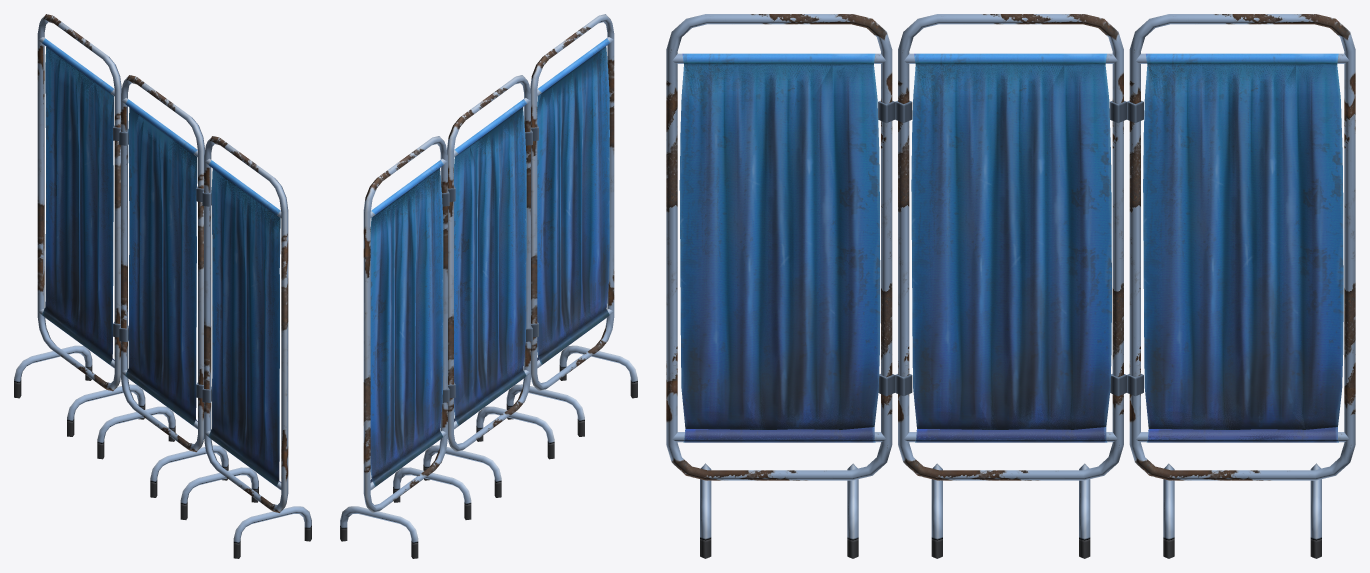
The model's file is hospitalScreen_3x.FBX.
3 views of the same model, side by side, from view 1: azimuth 30°, elevation 25°; view 2: azimuth 150°, elevation 25°; view 3: azimuth 270°, elevation 25° (orthographic). The views are drawn at different scales.
Parts seen in each view (by area): view 1: hospitalScreen03, hospitalScreen01, hospitalScreen02; view 2: hospitalScreen01, hospitalScreen03, hospitalScreen02; view 3: hospitalScreen02, hospitalScreen01, hospitalScreen03.
Part boxes in pixels (bbox=[...]): hospitalScreen03: bbox=[180, 136, 311, 558]; hospitalScreen01: bbox=[14, 14, 145, 436]; hospitalScreen02: bbox=[97, 75, 228, 497]; hospitalScreen01: bbox=[340, 136, 471, 558]; hospitalScreen03: bbox=[506, 14, 637, 436]; hospitalScreen02: bbox=[423, 75, 554, 497]; hospitalScreen02: bbox=[895, 14, 1126, 558]; hospitalScreen01: bbox=[1127, 14, 1355, 558]; hospitalScreen03: bbox=[666, 14, 895, 558].
Bounding box in the file's own units: 44 × 200 × 241.
